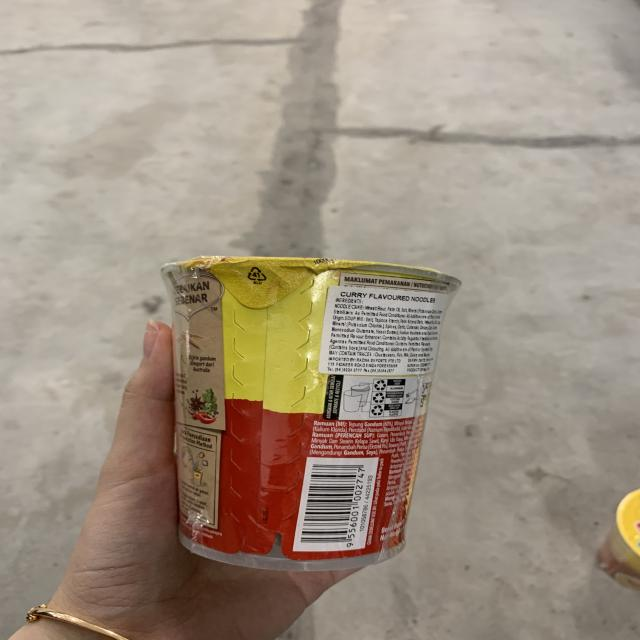object_name: (168, 255, 418, 560)
